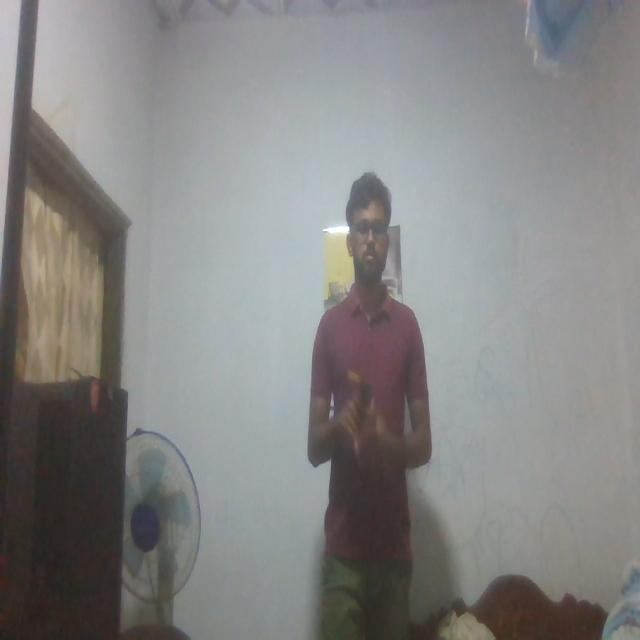Gun_Holder: (352, 374, 380, 435)
Person: (304, 183, 432, 640)
